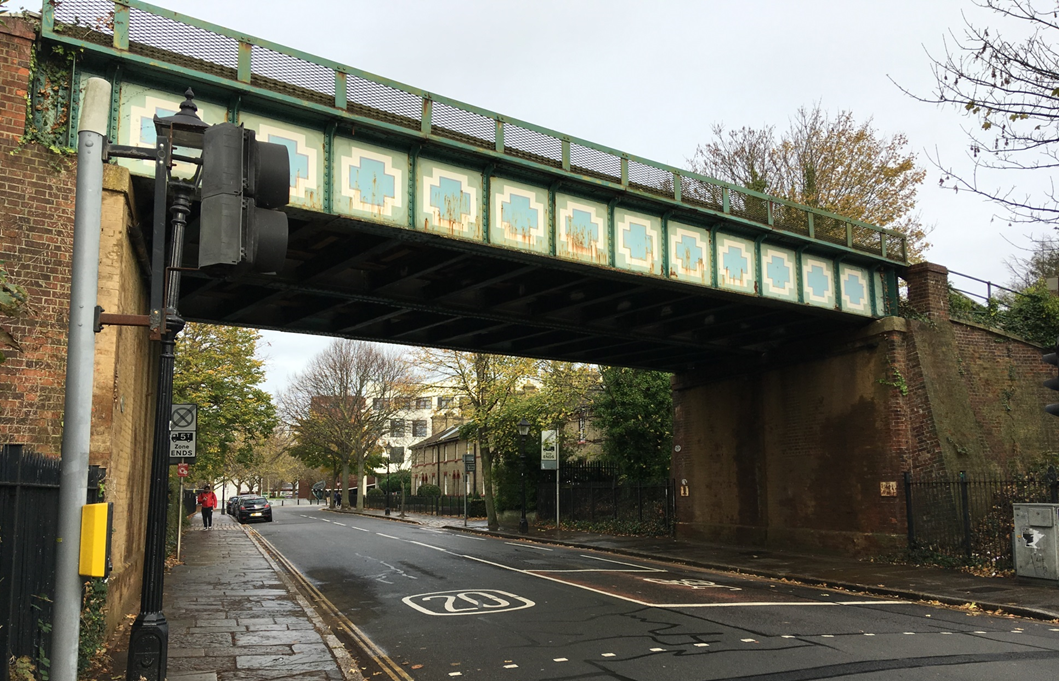bridge: (1, 5, 1058, 545)
